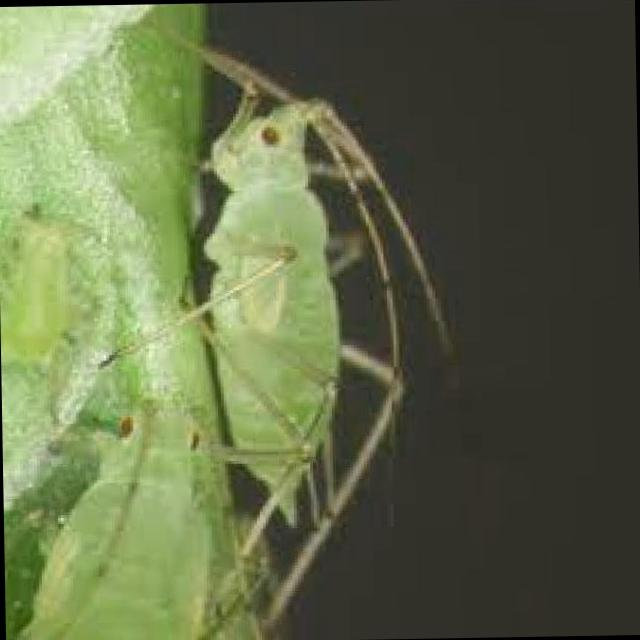aphid: (87, 24, 465, 615)
